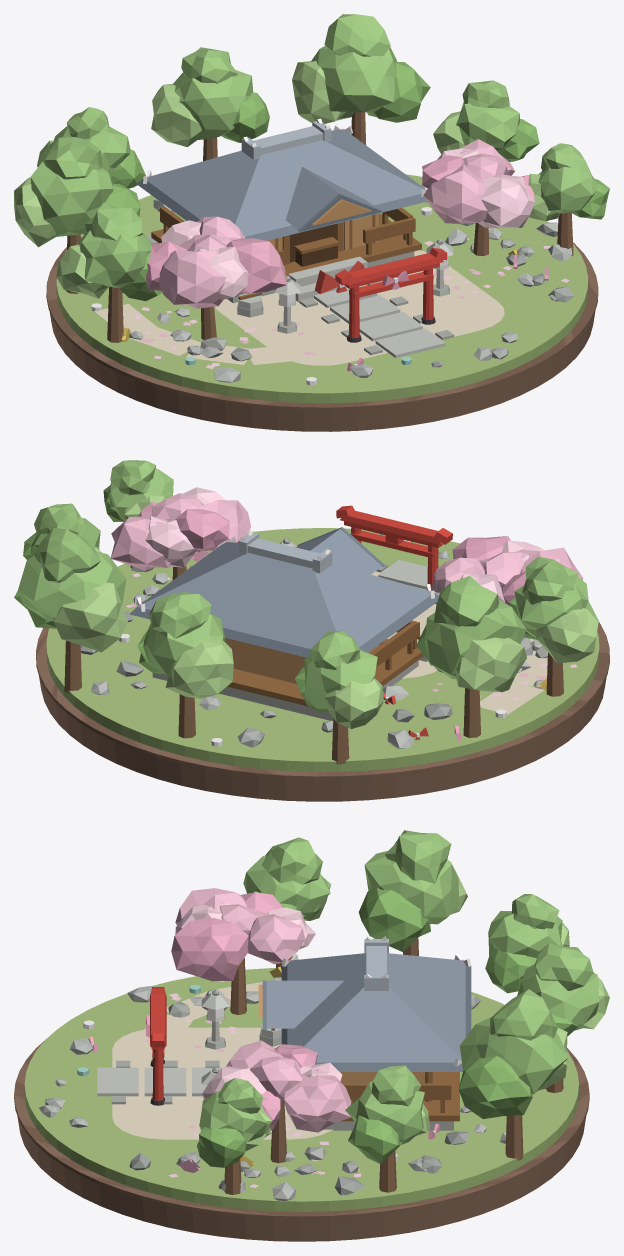
File: shrine.glb
The picture shows the model from 3 angles, top to bottom: view 1: azimuth 30°, elevation 25°; view 2: azimuth 150°, elevation 25°; view 3: azimuth 270°, elevation 25°; orthographic projection. The views are drawn at different scales.
Parts seen in each view (by area): view 1: base, trees, shrine, cherry, ground, rocks, path, torii, props, lanterns; view 2: base, trees, shrine, cherry, rocks, torii, ground, props, path; view 3: base, trees, shrine, cherry, ground, rocks, path, torii, lanterns, props.
Part boxes in pixels (x1=…): base: x1=46, y1=174, x2=598, y2=431; trees: x1=14, y1=14, x2=609, y2=342; shrine: x1=136, y1=118, x2=427, y2=303; cherry: x1=146, y1=139, x2=535, y2=340; ground: x1=95, y1=250, x2=504, y2=365; rocks: x1=122, y1=185, x2=573, y2=382; path: x1=299, y1=281, x2=454, y2=357; torii: x1=335, y1=248, x2=447, y2=342; props: x1=91, y1=207, x2=569, y2=385; lanterns: x1=237, y1=238, x2=453, y2=333; base: x1=36, y1=528, x2=609, y2=801; trees: x1=14, y1=460, x2=599, y2=764; shrine: x1=129, y1=527, x2=438, y2=720; cherry: x1=111, y1=487, x2=582, y2=605; rocks: x1=80, y1=534, x2=547, y2=748; torii: x1=336, y1=505, x2=452, y2=603; ground: x1=371, y1=567, x2=547, y2=714; props: x1=119, y1=550, x2=577, y2=746; path: x1=376, y1=560, x2=427, y2=589; base: x1=14, y1=968, x2=589, y2=1241; trees: x1=197, y1=830, x2=609, y2=1194; shrine: x1=258, y1=936, x2=471, y2=1130; cherry: x1=171, y1=888, x2=350, y2=1163; ground: x1=112, y1=982, x2=332, y2=1139; rocks: x1=39, y1=977, x2=506, y2=1201; path: x1=97, y1=1060, x2=221, y2=1104; torii: x1=146, y1=987, x2=166, y2=1105; lanterns: x1=201, y1=989, x2=281, y2=1085; props: x1=77, y1=966, x2=440, y2=1194.
Bounding box in the file's own units: 2.13 × 0.7641 × 2.07.
